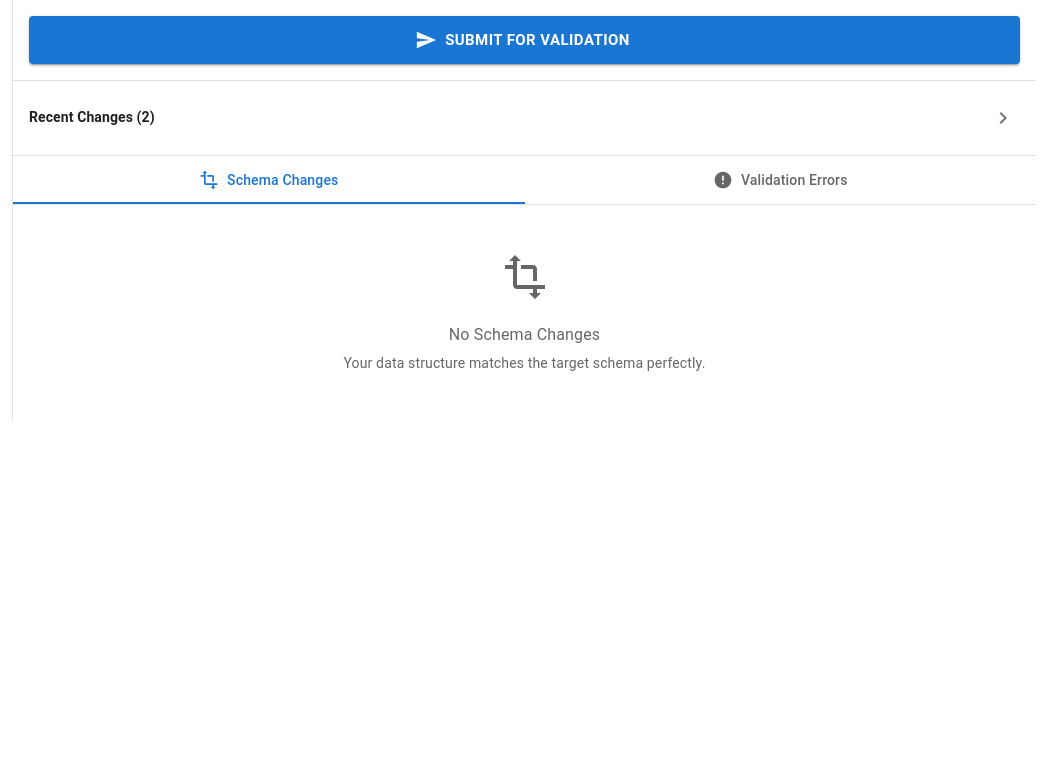
Test case: ValidationSidebarComponent - UI Cleanup › Recent Changes Collapsible Functionality › should toggle Recent Changes section when clicked
This screenshot has width=1048, height=768.
Expected: the text "Row 2, header1: \"old1\" → \"new1\"" is not shown
Click to expand
Click the button named "expand recent changes section" at coordinates (85, 117), box [25,97,1024,139]
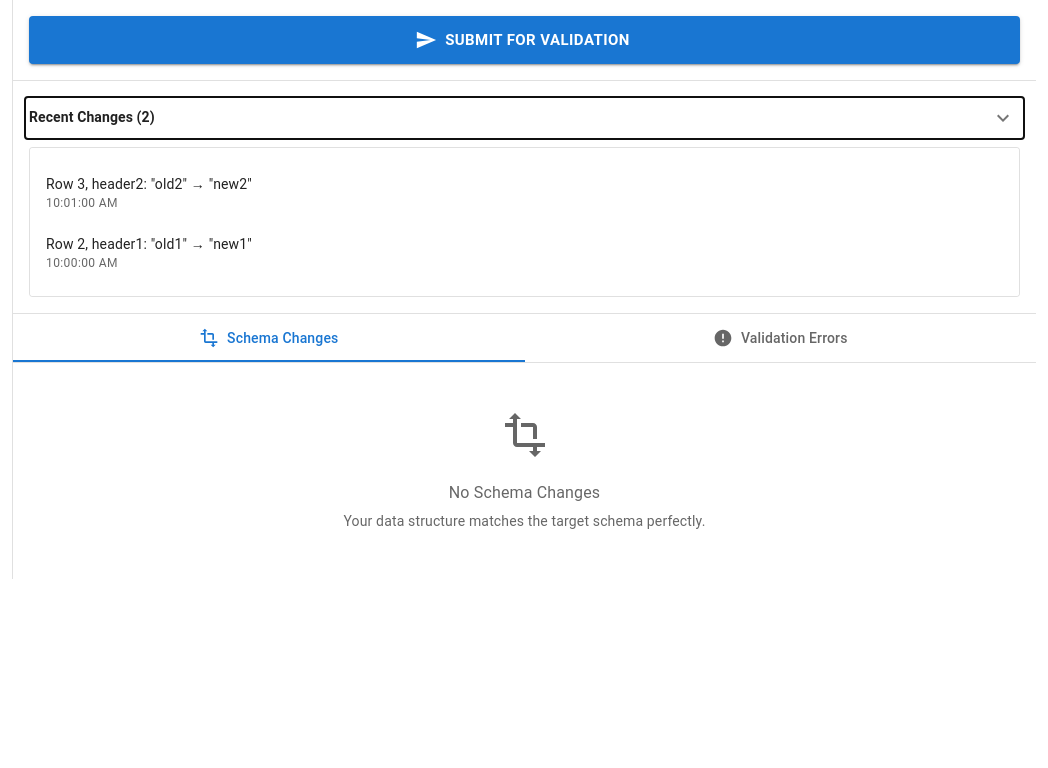
Expected: the text "Row 2, header1: \"old1\" → \"new1\"" is shown, [46,236,252,252]
Click to collapse again
Click the button named "collapse recent changes section" at coordinates (85, 117), box [25,97,1024,139]
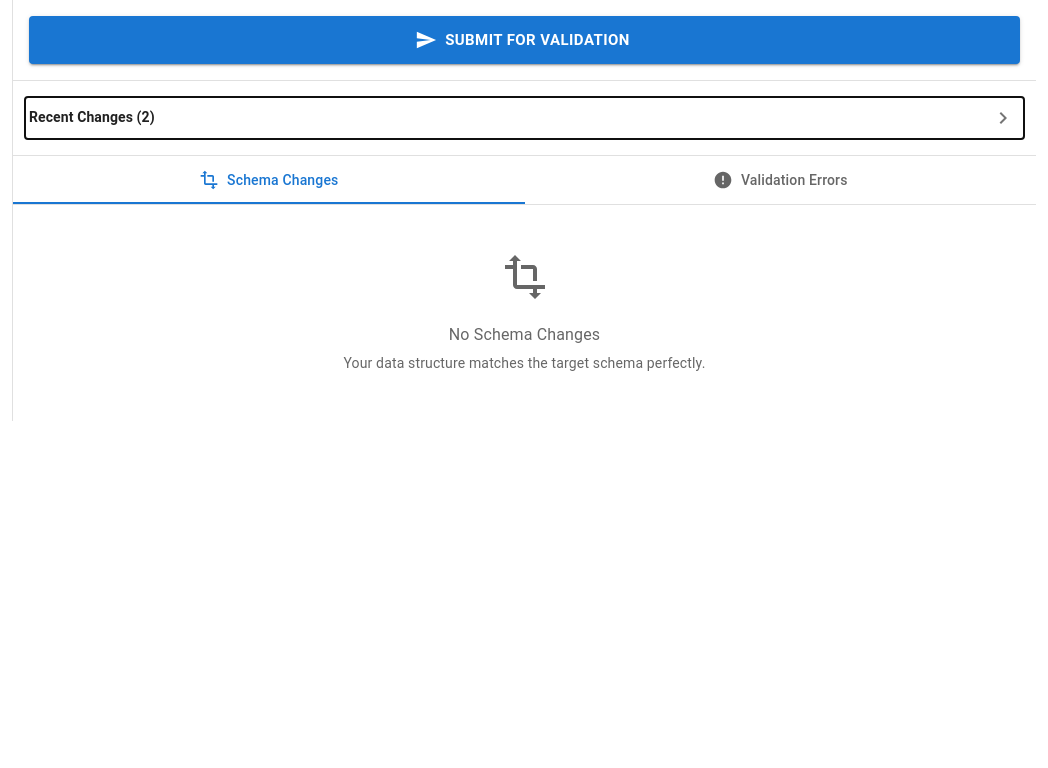
Expected: the text "Row 2, header1: \"old1\" → \"new1\"" is gone
